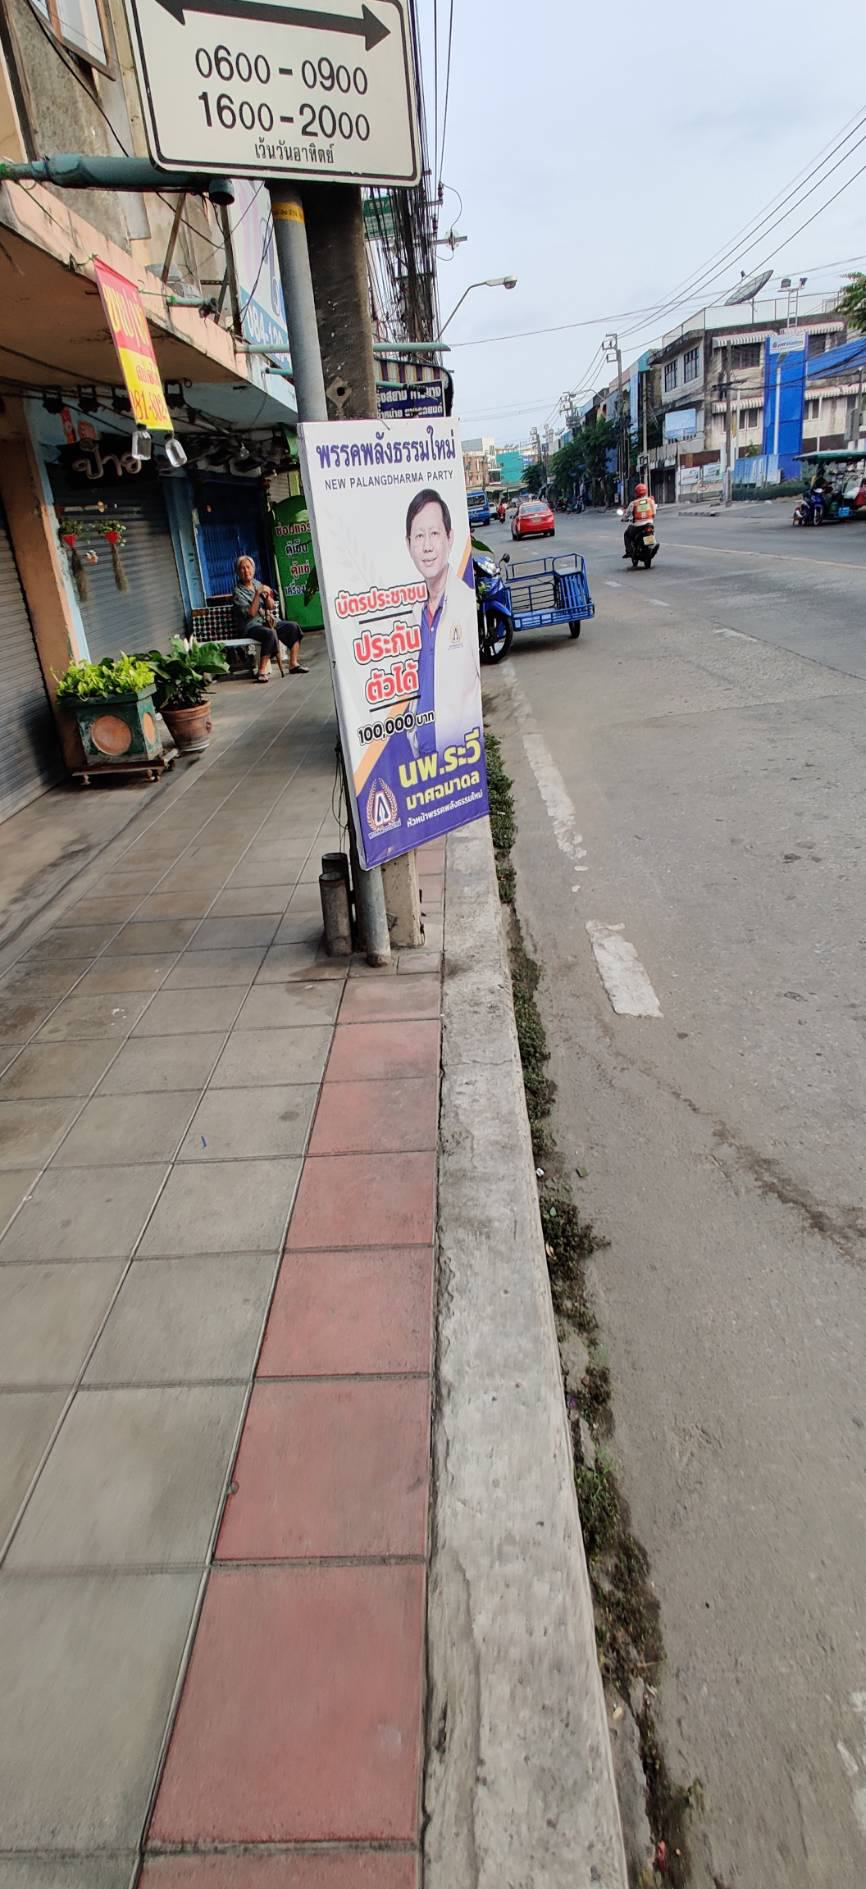Banner: (297, 399, 475, 884)
